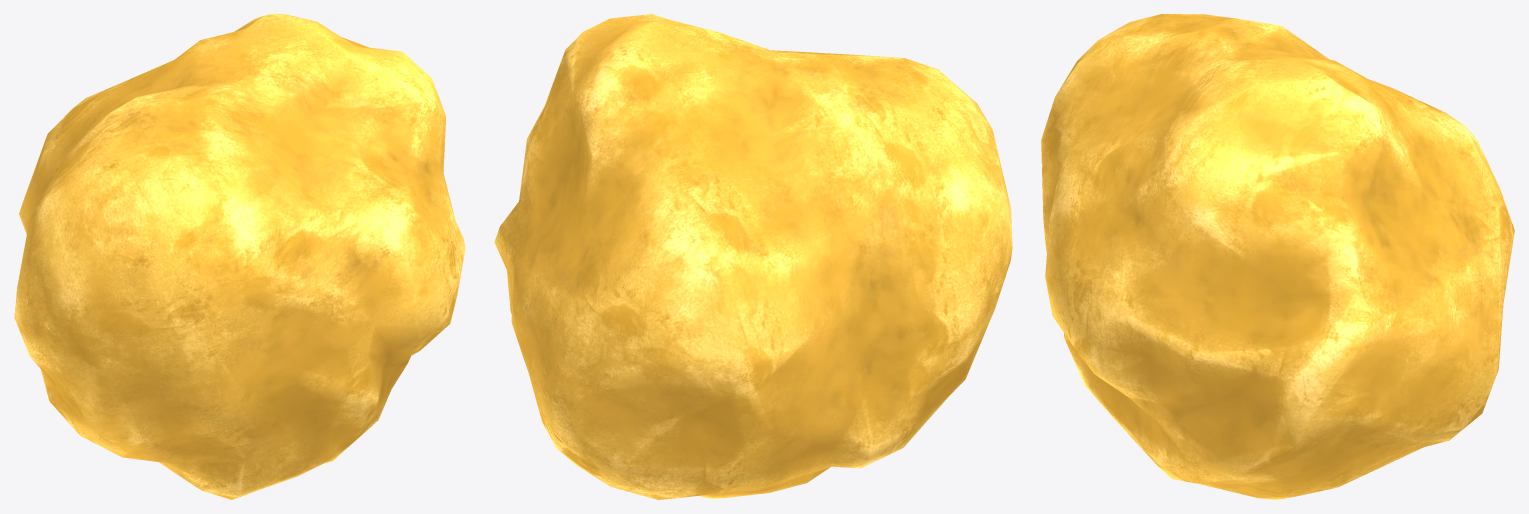
Rendered from pepite-or.glb.
The picture shows the model from 3 angles, left to right: view 1: azimuth 30°, elevation 25°; view 2: azimuth 150°, elevation 25°; view 3: azimuth 270°, elevation 25°; orthographic projection. The views are drawn at different scales.
Parts seen in each view (by area): view 1: Sphere__0; view 2: Sphere__0; view 3: Sphere__0.
Part boxes in pixels (x1,y1,x2,y2): Sphere__0: [14, 14, 465, 499]; Sphere__0: [494, 14, 1012, 499]; Sphere__0: [1041, 14, 1514, 499].
Size of the model in its own units: 14.52 by 14.39 by 13.72.
1 material, 1 textured.
